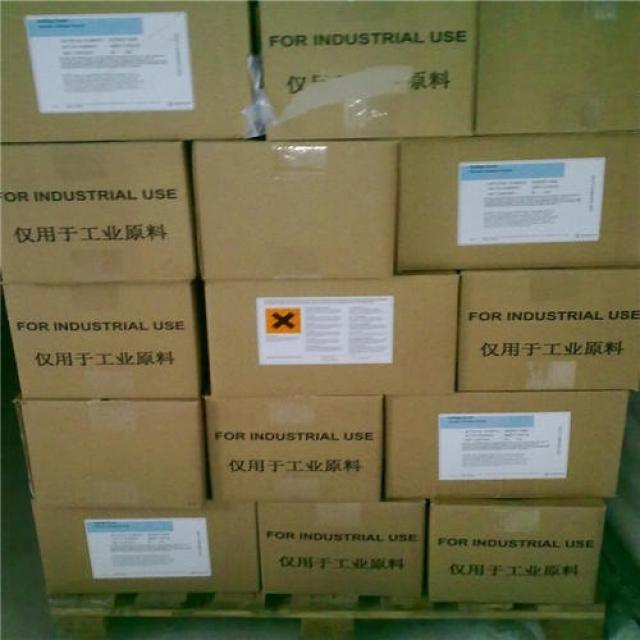box: (0, 1, 255, 141), (396, 132, 639, 269), (205, 266, 461, 396), (257, 1, 479, 139), (190, 136, 404, 277), (0, 138, 196, 285), (385, 391, 631, 500), (33, 491, 259, 598), (2, 284, 201, 399), (458, 268, 639, 394), (475, 0, 639, 133), (17, 398, 210, 508), (203, 394, 387, 501), (428, 495, 608, 602), (255, 498, 431, 591)
